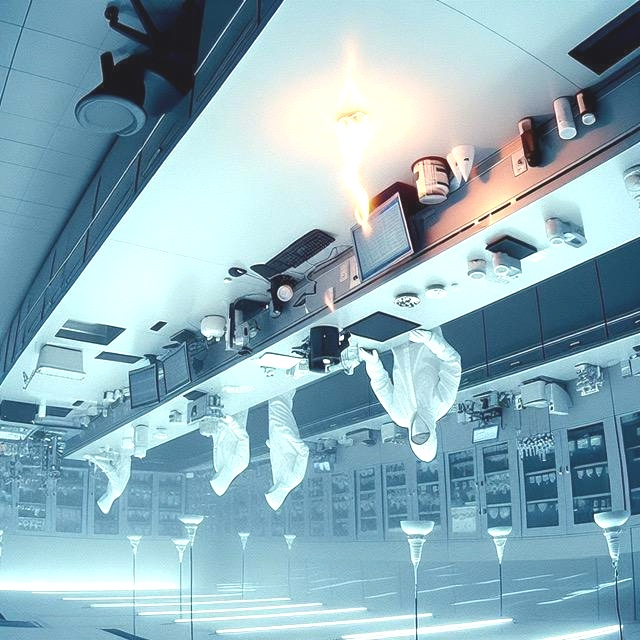fire: (323, 76, 405, 268)
